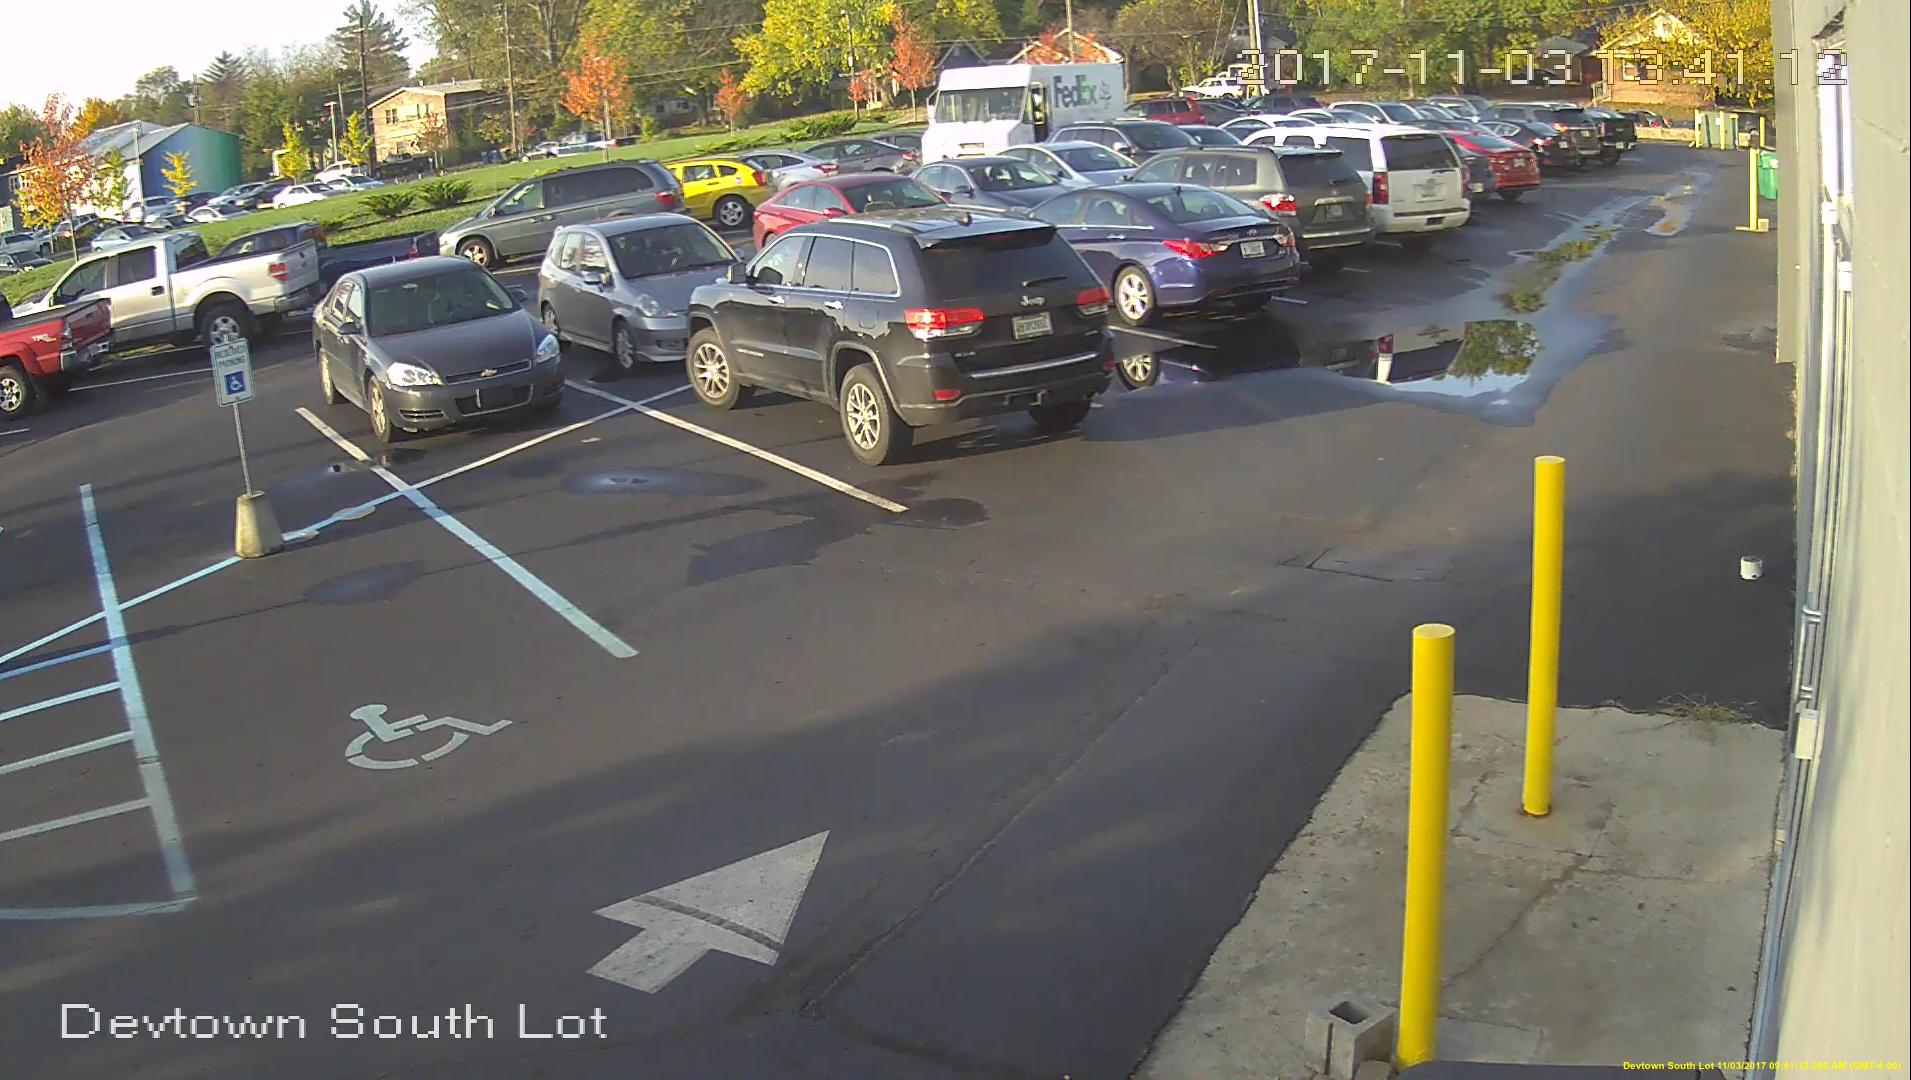fedex_truck: (919, 66, 1129, 157)
